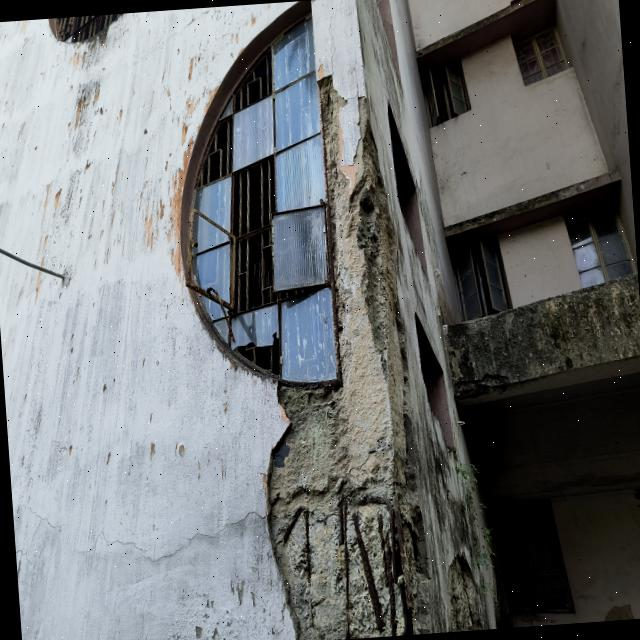peeling: (134, 72, 220, 294), (31, 73, 109, 264)
spalling: (268, 78, 430, 640)
stain_mould: (444, 269, 640, 399), (366, 551, 368, 560)
